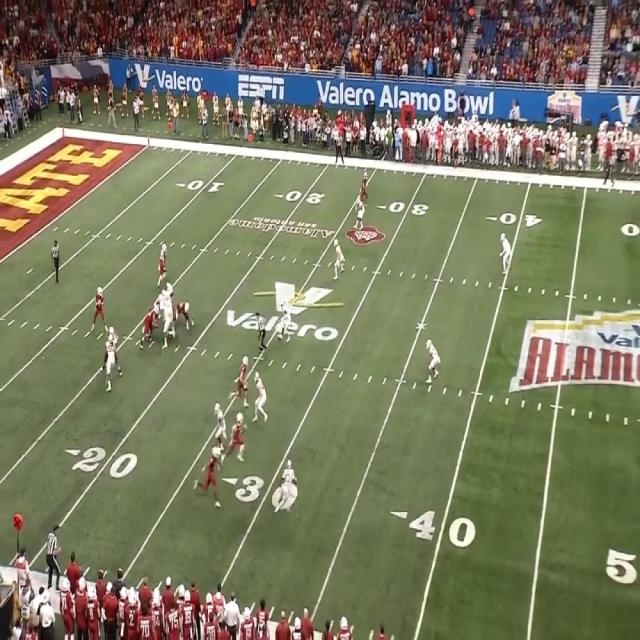db: (213, 402, 227, 458), (428, 337, 442, 383), (499, 234, 510, 275), (284, 460, 293, 508), (334, 244, 344, 279), (357, 192, 364, 226)
lb: (254, 373, 266, 424), (282, 300, 291, 341)
qb: (95, 288, 109, 328)
skill: (202, 449, 220, 504), (236, 356, 252, 406), (229, 413, 246, 460), (157, 240, 167, 284), (359, 170, 368, 213)
